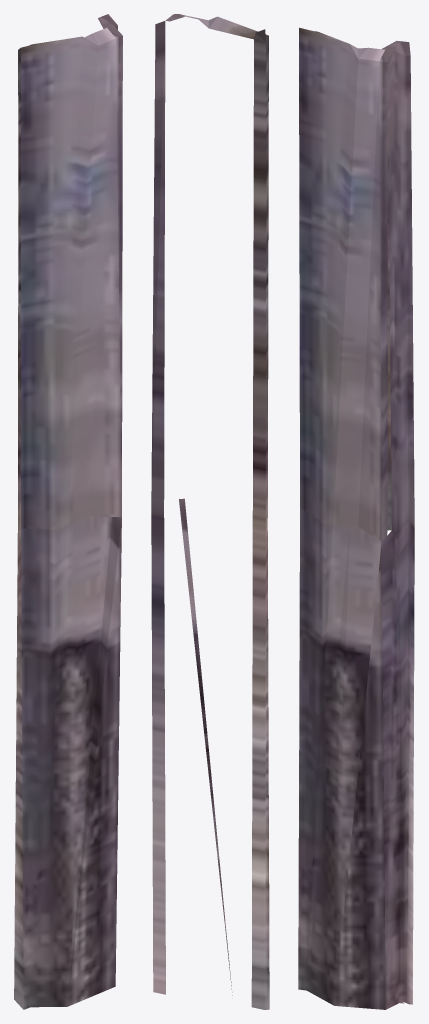
The picture shows the model from 3 angles, left to right: view 1: azimuth 30°, elevation 25°; view 2: azimuth 150°, elevation 25°; view 3: azimuth 330°, elevation 25°; orthographic projection.
Parts seen in each view (by area): view 1: Mesh_0; view 2: Mesh_0; view 3: Mesh_0.
Boxes of the visible parts, <box> form: Mesh_0: <box>14,14,122,1009</box>; Mesh_0: <box>151,14,269,1009</box>; Mesh_0: <box>298,27,414,1009</box>.
Size of the model in its own units: 4.23 by 37.28 by 1.5.
Materials: 1 (1 with a texture image).
